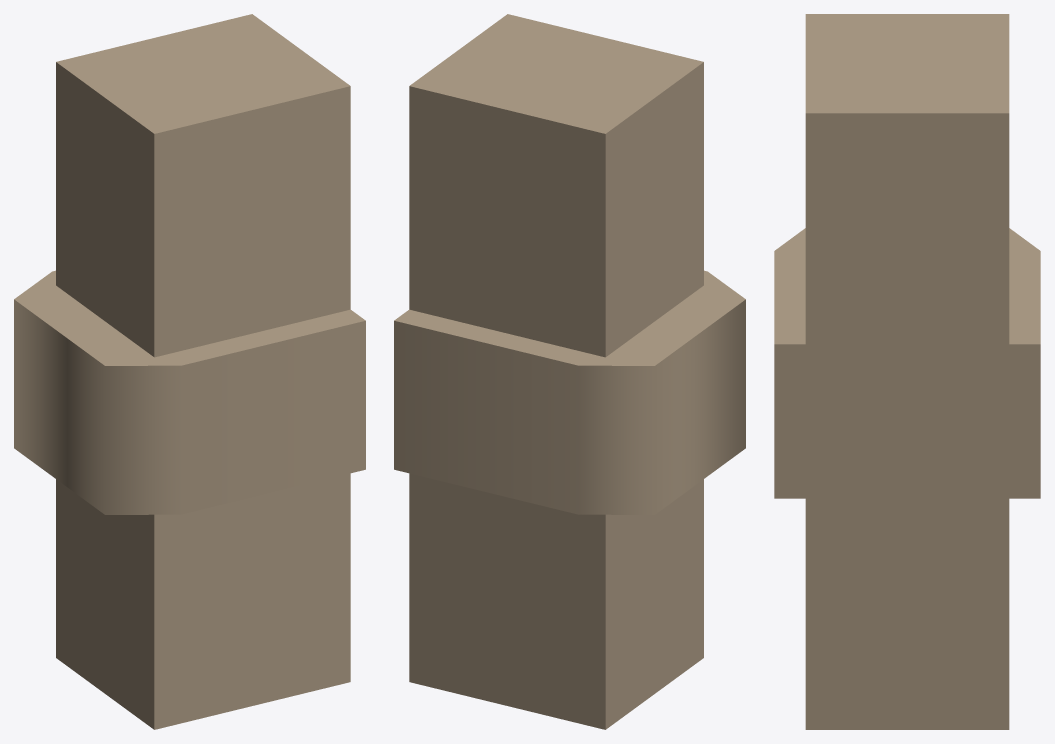
The model's file is Flue.glb.
The picture shows the model from 3 angles, left to right: view 1: azimuth 30°, elevation 25°; view 2: azimuth 150°, elevation 25°; view 3: azimuth 270°, elevation 25°; orthographic projection. The views are drawn at different scales.
Visible parts, largest first — view 1: Flue; view 2: Flue; view 3: Flue.
Boxes of the visible parts, x1=… form: Flue: x1=14, y1=14, x2=365, y2=729; Flue: x1=394, y1=14, x2=745, y2=729; Flue: x1=774, y1=14, x2=1040, y2=729.
Size of the model in its own units: 0.51 by 1.2 by 0.47.
